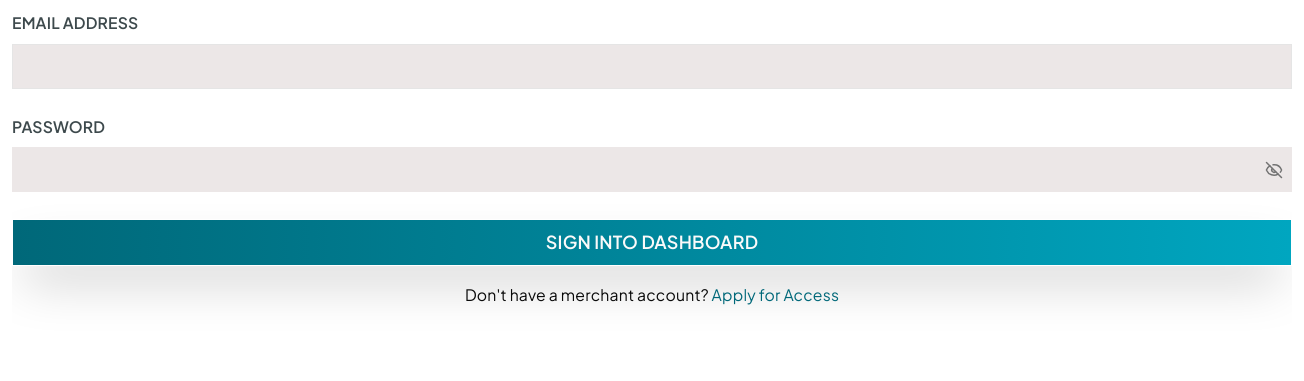
it: LoginForm › shows invalid credentials message when API returns invalid login error
The image size is (1304, 381).
Type "test@gmail.com" into the field labelled "Email Address". click: (652, 66)
box: [12,44,1292,88]
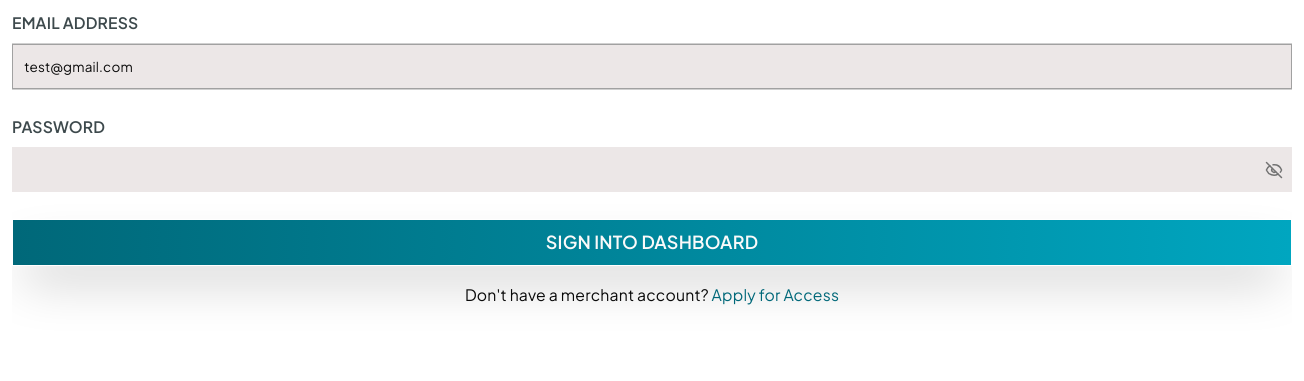
Type "wrongpass" into the password field labelled "Password". click: (638, 170)
box: [12,147,1265,192]
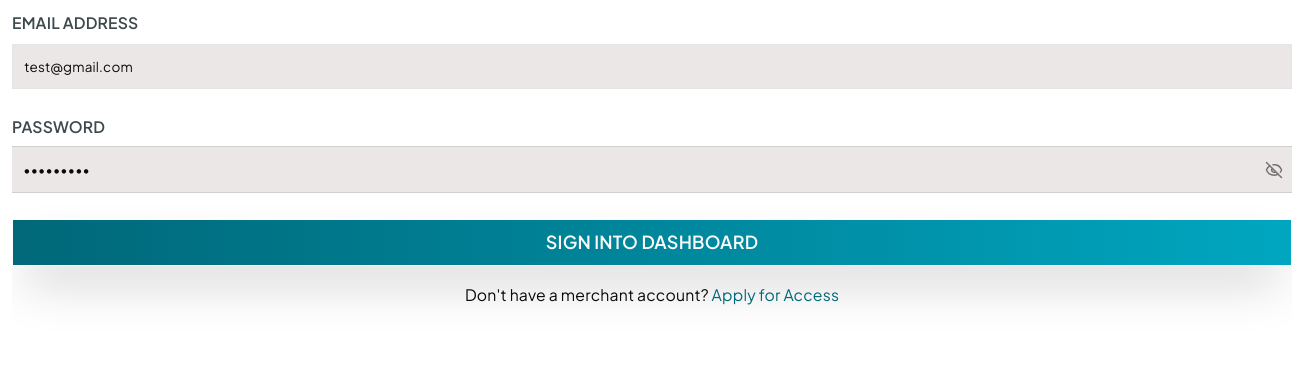
Click the button "Sign Into Dashboard". click: (652, 242)
box: [12,219,1292,266]
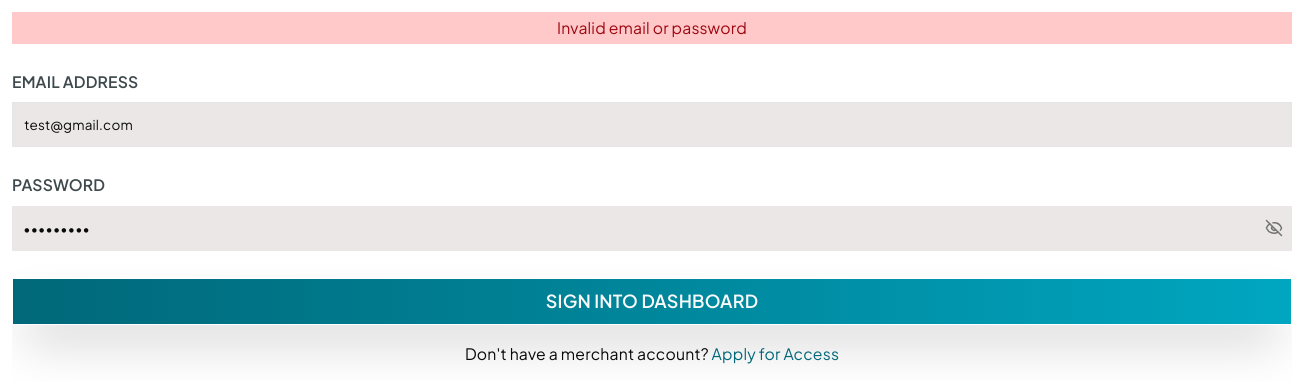
Now the text "Invalid email or password" is shown, box [557,18,747,36]
